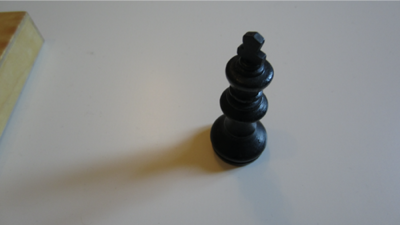black-king: (210, 32, 277, 167)
